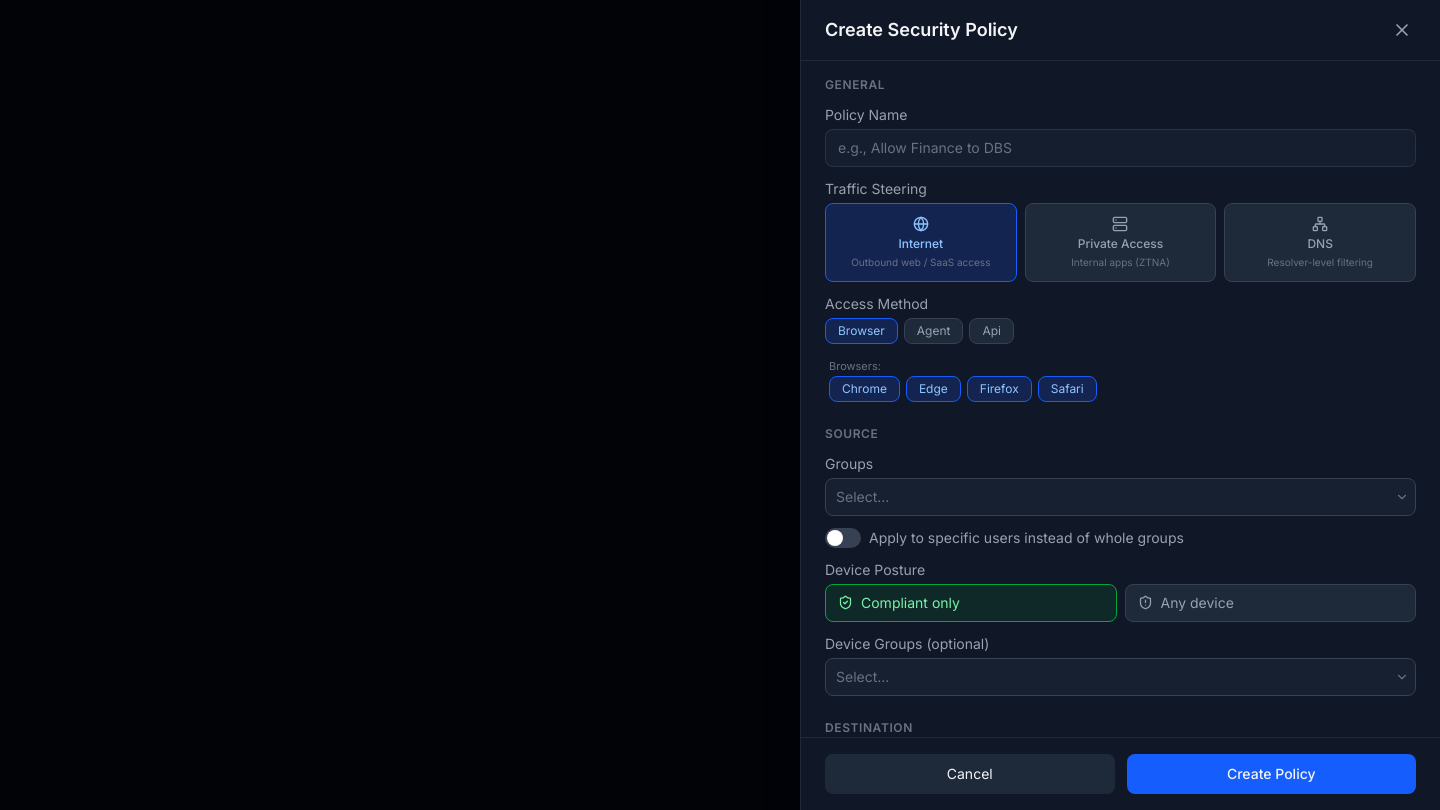
Test: PolicyEditor — steering-driven slim wizard › DNS steering hides Service + access method and shows DNS Filtering
The width and height of the screenshot is (1440, 810).
Click the text "DNS" at (1320, 244), box [1307, 236, 1333, 252]
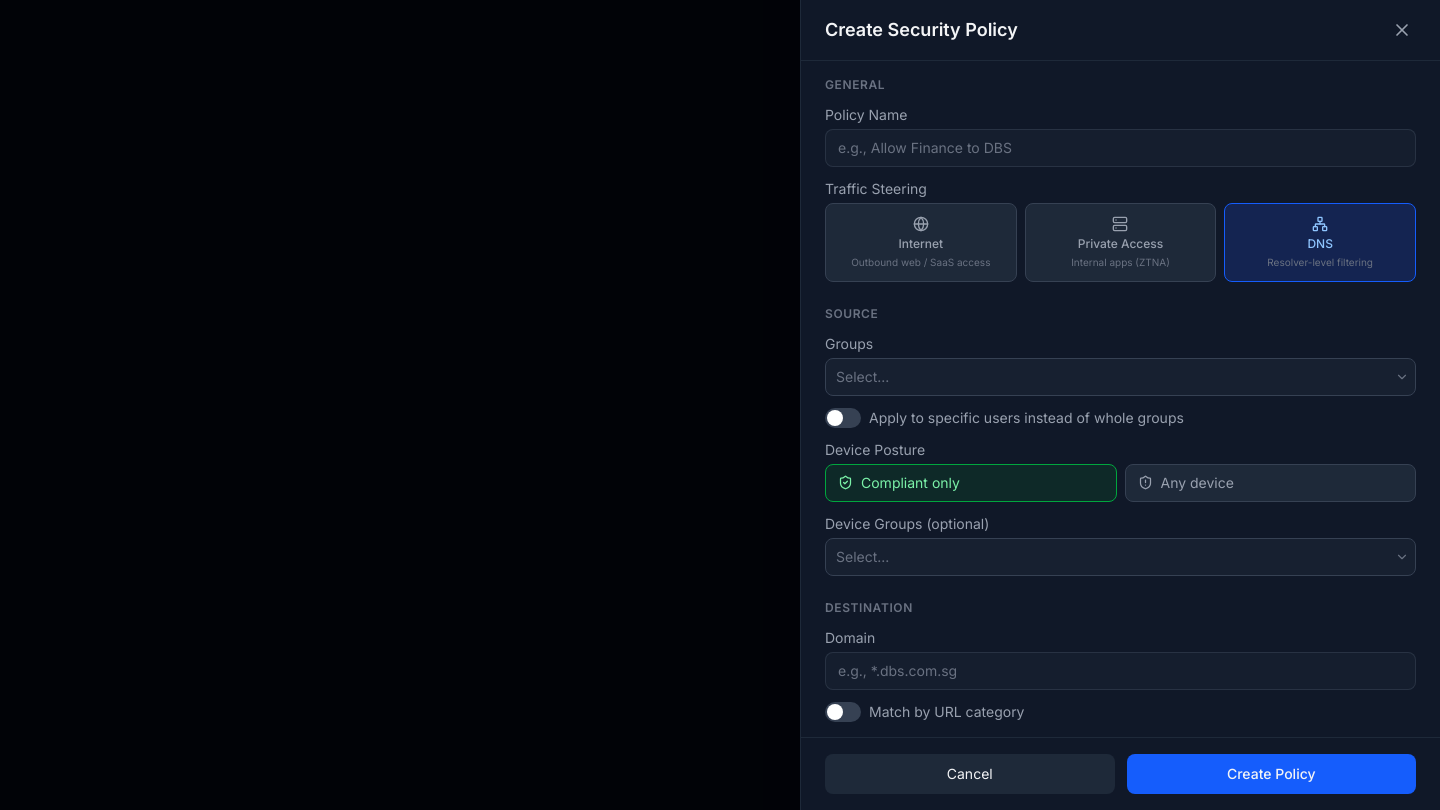
Expected: the text "Access Method" is gone
